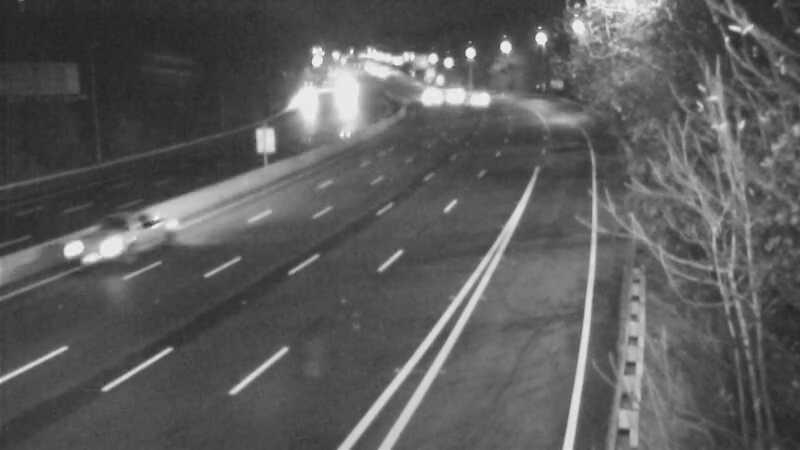vehicle: (65, 205, 145, 285), (430, 68, 480, 118), (453, 72, 503, 122), (405, 68, 455, 118), (323, 61, 373, 111)
